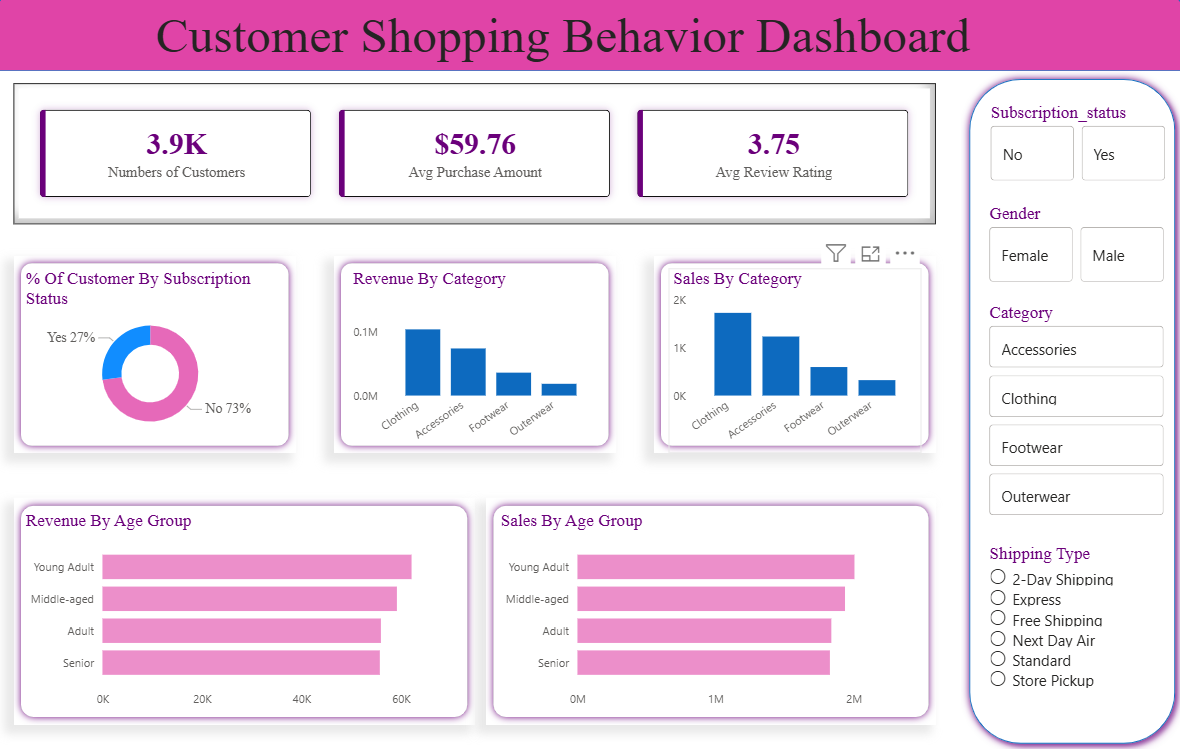

Layout of this report page (visuals, bound fields, positions):
{"tool":"powerbi","page":{"name":"Page 1","canvas":[1280,820],"ordinal":0},"visuals":[{"type":"cardVisual","fields":{"Data":["public customer.Numbers of Customers","public customer.Avg Purchase Amount","public customer.Avg Review Rating"]},"box":[18.9,98.4,994.6,152.3],"z":0},{"type":"shape","box":[0,0,1280.3,85.1],"z":1000},{"type":"textbox","box":[167.4,12.3,948.2,97.4],"z":2000},{"type":"shape","box":[18.9,284.4,304.6,212.9],"z":3000},{"type":"donutChart","title":"% Of Customer By Subscription Status","fields":{"Category":["public customer.subscription_status"],"Y":["Count(public customer.customer_id)"]},"box":[27,297.8,279,186],"z":4000},{"type":"shape","box":[708.9,284.4,304.6,212.9],"z":5000},{"type":"shape","box":[363.9,284.4,304.6,212.9],"z":6000},{"type":"clusteredColumnChart","title":"Revenue By Category","fields":{"Y":["Sum(public customer.purchase_amount)"],"Category":["public customer.category"]},"box":[380,297.8,272.2,199.5],"z":7000},{"type":"clusteredColumnChart","title":"Sales By Category","fields":{"Y":["CountNonNull(public customer.customer_id)"],"Category":["public customer.category"]},"box":[725,297.8,272.2,199.5],"z":8000},{"type":"shape","box":[1040.4,84.9,239.9,734.5],"z":9000},{"type":"advancedSlicerVisual","title":"Subscription_status","fields":{"Values":["public customer.subscription_status"]},"box":[1067.3,118.6,198.1,90.3],"z":10000},{"type":"advancedSlicerVisual","title":"Gender","fields":{"Values":["public customer.gender"]},"box":[1066,227.8,198.1,90.3],"z":11000},{"type":"advancedSlicerVisual","title":"Category","fields":{"Values":["public customer.category"]},"box":[1066,334.2,198.1,237.2],"z":12000},{"type":"listSlicer","title":"Shipping Type","fields":{"Values":["public customer.shipping_type"]},"box":[1066,594.3,148.2,208.9],"z":13000},{"type":"shape","box":[18.9,545.8,497.3,243.9],"z":13002},{"type":"clusteredBarChart","title":"Revenue By Age Group","fields":{"Y":["Sum(public customer.purchase_amount)"],"Category":["public customer.age_group"]},"box":[27,559.3,478.4,221],"z":13003},{"type":"shape","box":[528.3,545.8,485.2,243.9],"z":13004},{"type":"clusteredBarChart","title":"Sales By Age Group","fields":{"Category":["public customer.age_group"],"Y":["Sum(public customer.customer_id)"]},"box":[539.1,559.3,474.4,221],"z":13005}]}

Visuals, with their boxes in screenshot pixels (x1, y1, x2, y2), scaled from the page's 1280x820 canvas onto the 1180x749 screenshot:
cardVisual - public customer.Numbers of Customers x public customer.Avg Purchase Amount: pyautogui.locateOnScreen(17, 90, 934, 229)
shape: pyautogui.locateOnScreen(0, 0, 1179, 78)
textbox: pyautogui.locateOnScreen(154, 11, 1028, 100)
shape: pyautogui.locateOnScreen(17, 260, 298, 454)
"% Of Customer By Subscription Status" donutChart: pyautogui.locateOnScreen(25, 272, 282, 442)
shape: pyautogui.locateOnScreen(654, 260, 934, 454)
shape: pyautogui.locateOnScreen(335, 260, 616, 454)
"Revenue By Category" clusteredColumnChart: pyautogui.locateOnScreen(350, 272, 601, 454)
"Sales By Category" clusteredColumnChart: pyautogui.locateOnScreen(668, 272, 919, 454)
shape: pyautogui.locateOnScreen(959, 78, 1179, 748)
"Subscription_status" advancedSlicerVisual: pyautogui.locateOnScreen(984, 108, 1167, 191)
"Gender" advancedSlicerVisual: pyautogui.locateOnScreen(983, 208, 1165, 291)
"Category" advancedSlicerVisual: pyautogui.locateOnScreen(983, 305, 1165, 522)
"Shipping Type" listSlicer: pyautogui.locateOnScreen(983, 543, 1119, 734)
shape: pyautogui.locateOnScreen(17, 499, 476, 721)
"Revenue By Age Group" clusteredBarChart: pyautogui.locateOnScreen(25, 511, 466, 713)
shape: pyautogui.locateOnScreen(487, 499, 934, 721)
"Sales By Age Group" clusteredBarChart: pyautogui.locateOnScreen(497, 511, 934, 713)
